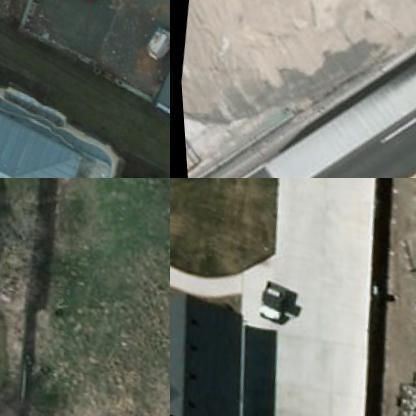truck: (244, 0, 415, 177)
